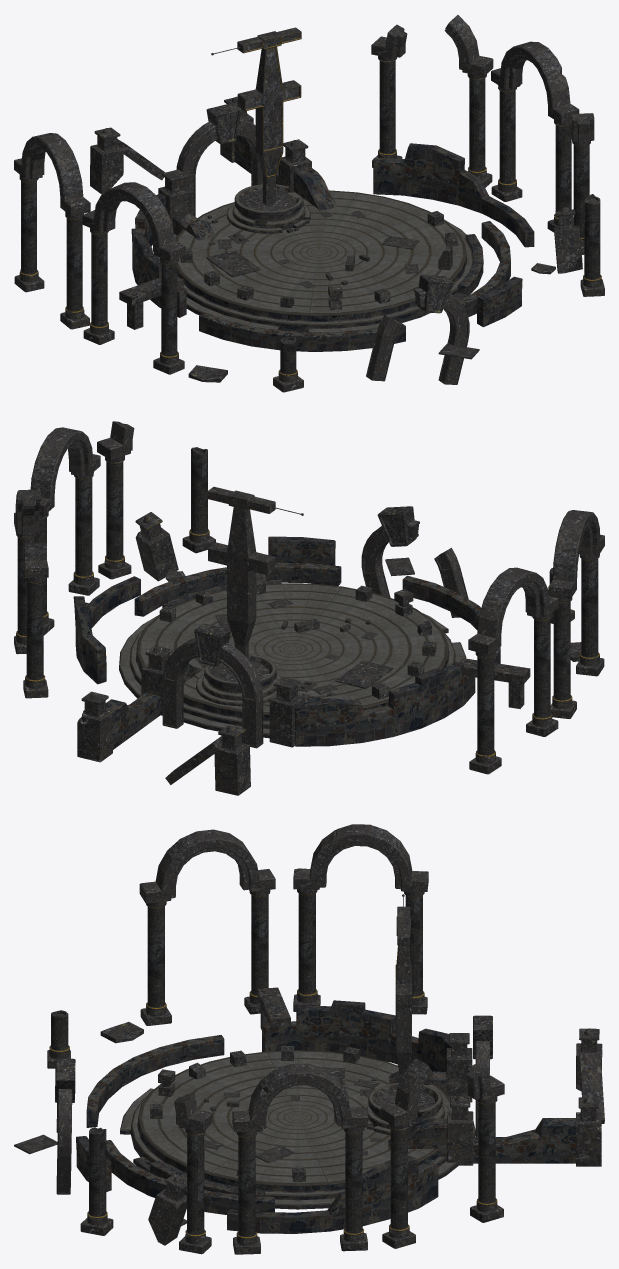
Rendered from altar_ruins_site.glb.
The picture shows the model from 3 angles, top to bottom: view 1: azimuth 30°, elevation 25°; view 2: azimuth 150°, elevation 25°; view 3: azimuth 270°, elevation 25°; orthographic projection. The views are drawn at different scales.
Parts seen in each view (by area): view 1: Platform_circle_09, Stone_structure_54, Arch_1_00, Arch_2_01, Arch_3_02, Wall_round_1_57, Arch_4_03, Gate_broken_08, Arch_5_04, Wall_round_2_59, Gate_07, Wall_round_4_60 (+14 smaller); view 2: Platform_circle_09, Arch_2_01, Wall_round_4_60, Stone_structure_54, Arch_1_00, Arch_3_02, Arch_4_03, Gate_07, Arch_5_04, Gate_broken_08, Wall_round_2_58, Wall_round_1_57 (+11 smaller); view 3: Platform_circle_09, Arch_3_02, Arch_1_00, Arch_2_01, Arch_4_03, Wall_round_4_60, Arch_5_04, Wall_round_1_57, Stone_structure_54, Wall_round_2_59, Wall_broken_1_55, Wall_round_2_58 (+13 smaller).
Boxes of the visible parts, left/top/right/bottom form: Platform_circle_09: left=157, top=190, right=483, bottom=332; Stone_structure_54: left=227, top=27, right=310, bottom=233; Arch_1_00: left=82, top=182, right=185, bottom=374; Arch_2_01: left=14, top=133, right=90, bottom=329; Arch_3_02: left=491, top=41, right=579, bottom=232; Wall_round_1_57: left=373, top=143, right=534, bottom=247; Arch_4_03: left=371, top=15, right=493, bottom=187; Gate_broken_08: left=366, top=275, right=469, bottom=384; Arch_5_04: left=569, top=113, right=604, bottom=296; Wall_round_2_59: left=199, top=312, right=405, bottom=351; Gate_07: left=176, top=103, right=262, bottom=216; Wall_round_4_60: left=131, top=193, right=186, bottom=317; Platform_circle_09: left=119, top=579, right=466, bottom=738; Arch_2_01: left=468, top=567, right=558, bottom=774; Wall_round_4_60: left=295, top=662, right=475, bottom=746; Stone_structure_54: left=196, top=486, right=281, bottom=706; Arch_1_00: left=548, top=510, right=604, bottom=718; Arch_3_02: left=30, top=427, right=100, bottom=635; Arch_4_03: left=14, top=489, right=48, bottom=698; Gate_07: left=162, top=623, right=263, bottom=748; Arch_5_04: left=97, top=421, right=215, bottom=579; Gate_broken_08: left=361, top=506, right=468, bottom=617; Wall_round_2_58: left=134, top=562, right=341, bottom=616; Wall_round_1_57: left=73, top=576, right=140, bottom=684; Platform_circle_09: left=120, top=1050, right=475, bottom=1209; Arch_3_02: left=232, top=1063, right=368, bottom=1254; Arch_1_00: left=139, top=829, right=275, bottom=1025; Arch_2_01: left=293, top=824, right=428, bottom=1014; Arch_4_03: left=380, top=1057, right=504, bottom=1248; Wall_round_4_60: left=262, top=1000, right=451, bottom=1072; Arch_5_04: left=80, top=1093, right=212, bottom=1254; Wall_round_1_57: left=227, top=1155, right=438, bottom=1233; Stone_structure_54: left=363, top=906, right=449, bottom=1135; Wall_round_2_59: left=86, top=1035, right=224, bottom=1127; Wall_broken_1_55: left=473, top=1118, right=575, bottom=1163; Wall_round_2_58: left=106, top=1140, right=274, bottom=1214.
Size of the model in its own units: 20.17 by 9.6 by 19.85.
63 materials, 63 textured.
